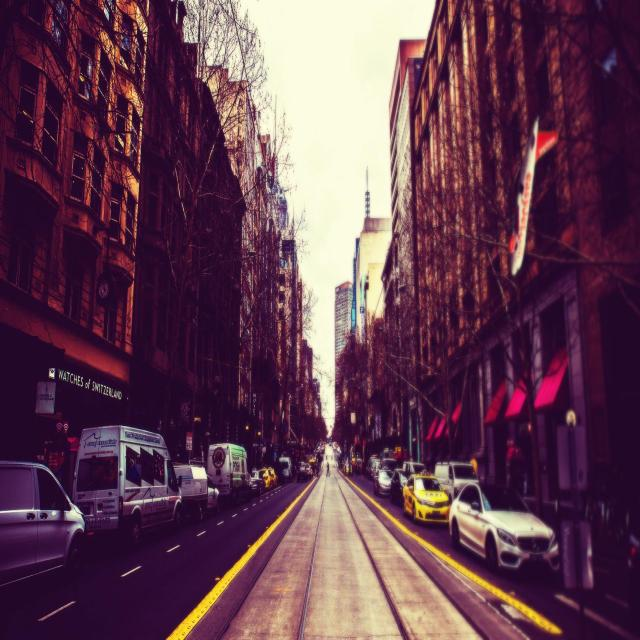airplane: (506, 114, 558, 277)
